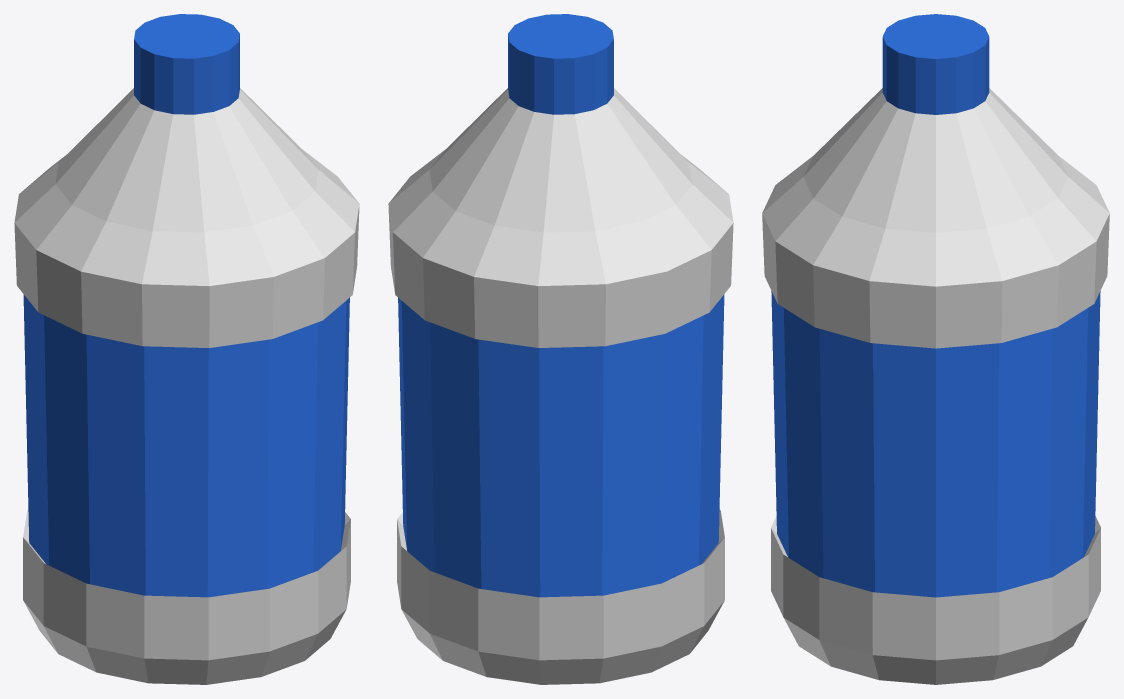
File: blue_jug.glb
3 views of the same model, side by side, from view 1: azimuth 30°, elevation 25°; view 2: azimuth 150°, elevation 25°; view 3: azimuth 270°, elevation 25° (orthographic).
Visible parts, largest first — view 1: Cylinder.019, Cylinder.018, Cylinder.017, Cylinder.016; view 2: Cylinder.019, Cylinder.018, Cylinder.017, Cylinder.016; view 3: Cylinder.019, Cylinder.018, Cylinder.017, Cylinder.016.
Boxes of the visible parts, x1=… form: Cylinder.019: x1=23, y1=294, x2=349, y2=597; Cylinder.018: x1=14, y1=88, x2=359, y2=347; Cylinder.017: x1=23, y1=509, x2=350, y2=684; Cylinder.016: x1=134, y1=14, x2=239, y2=114; Cylinder.019: x1=398, y1=294, x2=724, y2=597; Cylinder.018: x1=388, y1=88, x2=733, y2=347; Cylinder.017: x1=397, y1=509, x2=724, y2=684; Cylinder.016: x1=508, y1=14, x2=613, y2=114; Cylinder.019: x1=771, y1=291, x2=1100, y2=597; Cylinder.018: x1=762, y1=88, x2=1109, y2=348; Cylinder.017: x1=771, y1=516, x2=1100, y2=684; Cylinder.016: x1=882, y1=14, x2=989, y2=114.
Size of the model in its own units: 3.5 by 6.51 by 3.5.
